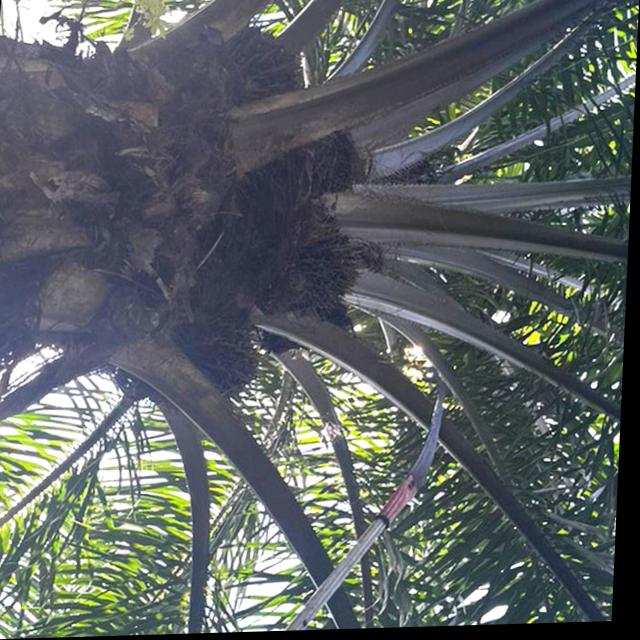unripe: (260, 209, 375, 331), (160, 302, 278, 409)
